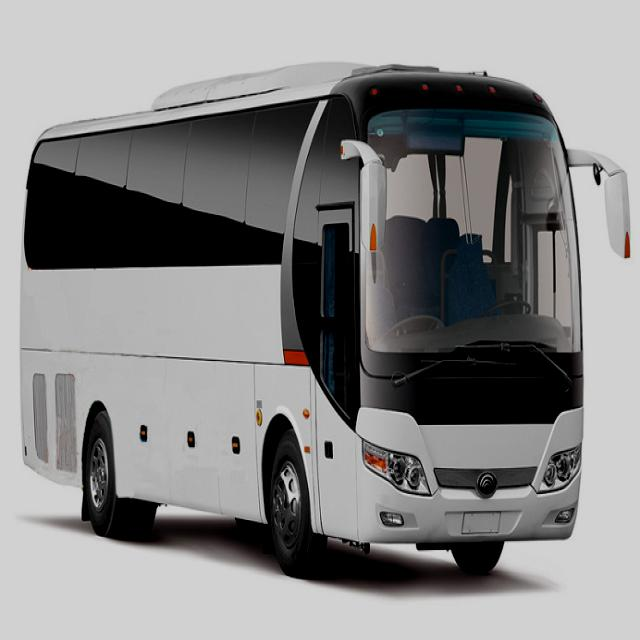BUS: (18, 59, 631, 580)
